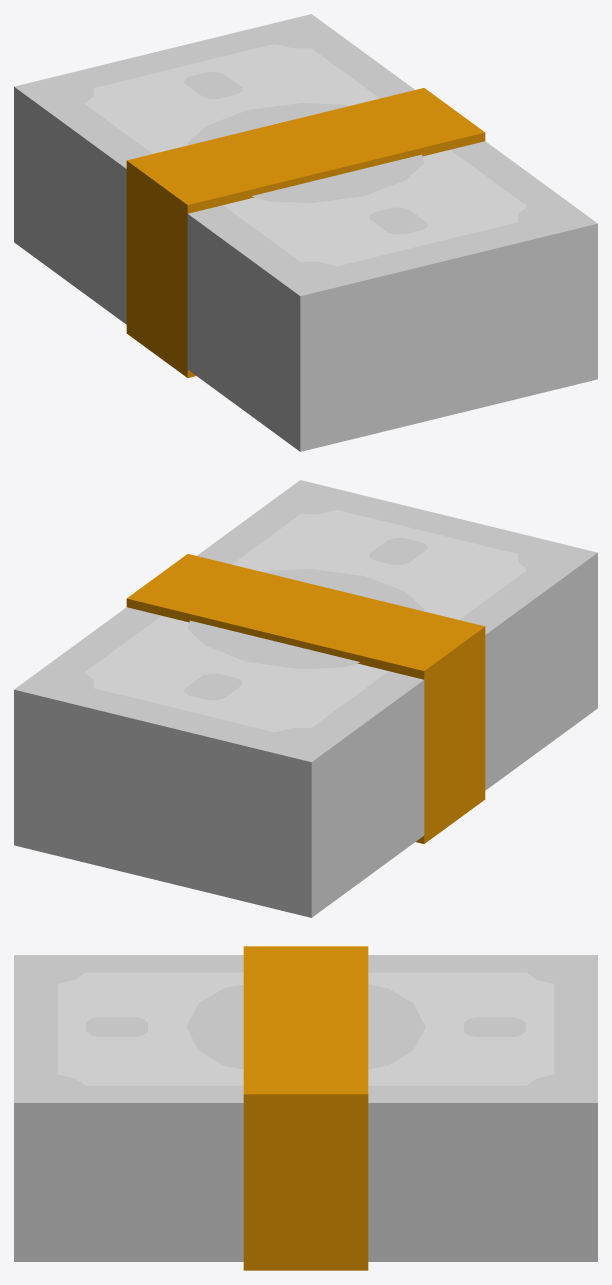
The model's file is Money.fbx.
3 views of the same model, one above another, from view 1: azimuth 30°, elevation 25°; view 2: azimuth 150°, elevation 25°; view 3: azimuth 270°, elevation 25° (orthographic).
Parts seen in each view (by area): view 1: Cube; view 2: Cube; view 3: Cube.
Part boxes in pixels (box(x1,y1,x2,y2)): Cube: box(14, 14, 597, 451); Cube: box(14, 480, 597, 917); Cube: box(14, 946, 597, 1270).
Bounding box in the file's own units: 36 × 20 × 60.
